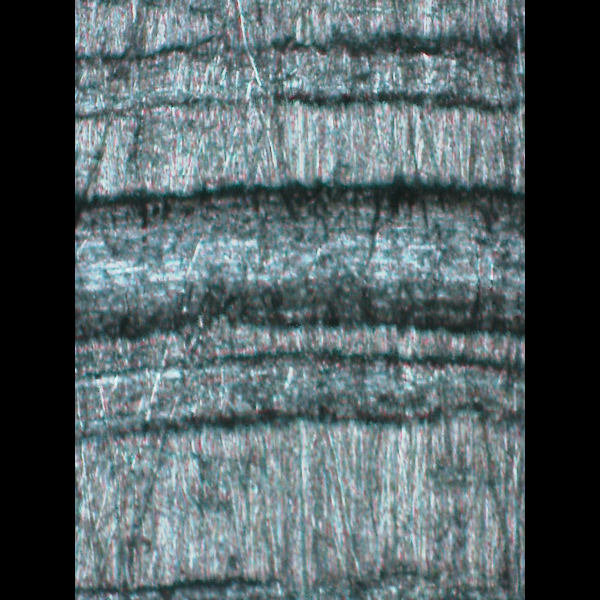d: (75, 175, 523, 439), (75, 10, 522, 126)
